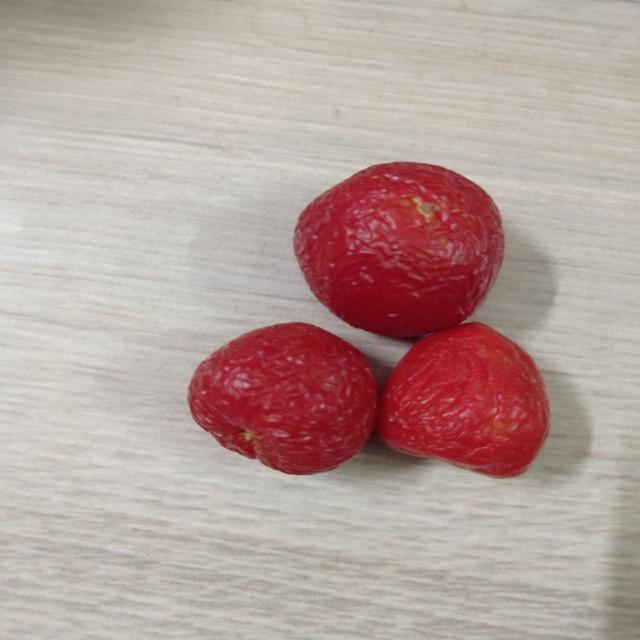overripe: (294, 161, 508, 327), (184, 317, 384, 479), (380, 323, 552, 479)
